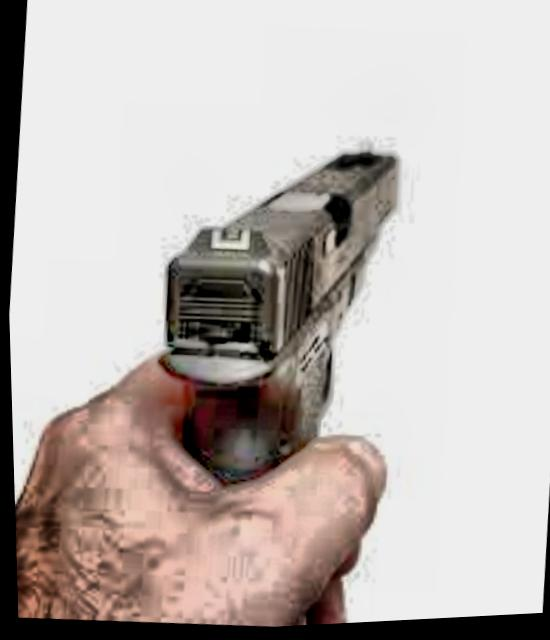pistol: (128, 92, 409, 497)
